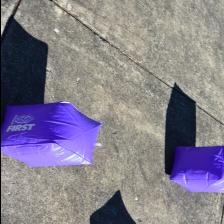cube: (0, 101, 101, 167), (169, 146, 224, 192)
